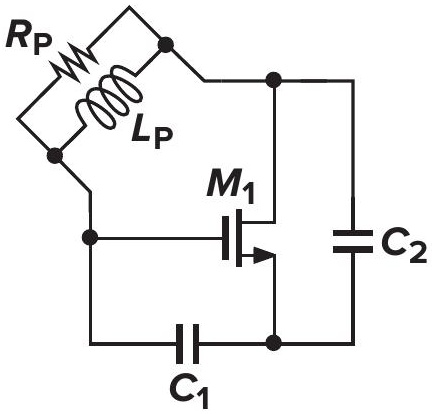capacity: (169, 320, 205, 368), (329, 223, 377, 258)
inductor: (68, 61, 148, 140)
nmos: (214, 205, 280, 269)
resistor: (47, 38, 101, 83)
